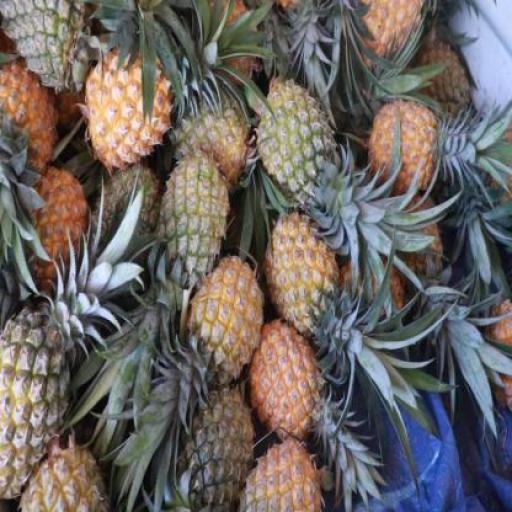------------------------------: (1, 314, 73, 500), (257, 79, 335, 207), (192, 255, 266, 387), (159, 154, 229, 288), (253, 321, 324, 448), (172, 92, 249, 179), (239, 434, 325, 511)
Pineapple - v8 v1: (83, 47, 169, 172), (262, 214, 336, 330), (0, 55, 57, 180), (370, 103, 437, 201)
